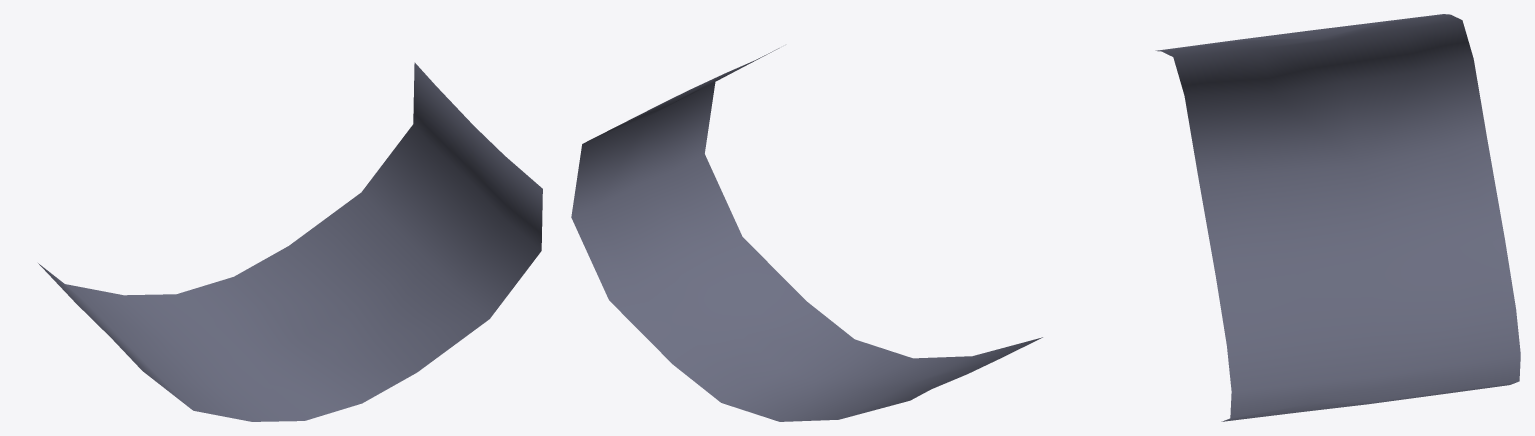
File: Arctic_Luge_Tunnel_Right_15_Mid_A.glb
3 views of the same model, side by side, from view 1: azimuth 30°, elevation 25°; view 2: azimuth 150°, elevation 25°; view 3: azimuth 270°, elevation 25° (orthographic). The views are drawn at different scales.
Visible parts, largest first — view 1: Arctic_Luge_Tunnel_Right_15_Mid_A; view 2: Arctic_Luge_Tunnel_Right_15_Mid_A; view 3: Arctic_Luge_Tunnel_Right_15_Mid_A.
Boxes of the visible parts, box(x1,y1,x2,y2) form: Arctic_Luge_Tunnel_Right_15_Mid_A: box(38, 62, 542, 421); Arctic_Luge_Tunnel_Right_15_Mid_A: box(571, 48, 1042, 421); Arctic_Luge_Tunnel_Right_15_Mid_A: box(1155, 14, 1520, 421).
Size of what is drawn, in the model's own units: 4.44 by 3.49 by 3.13.
